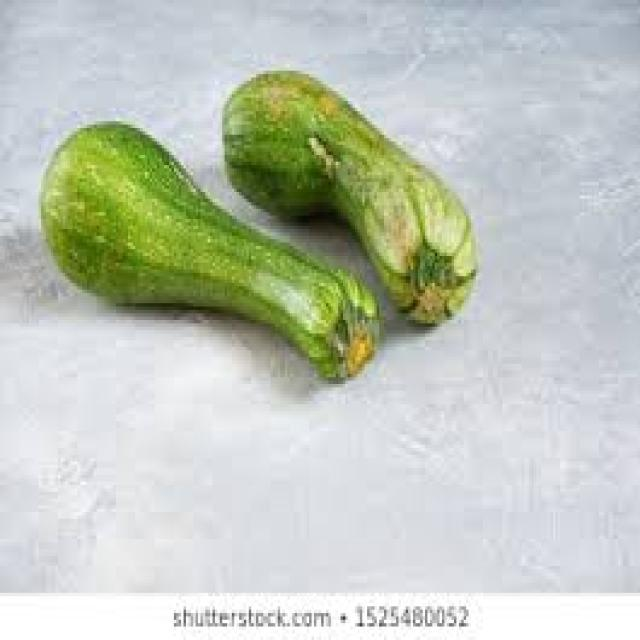biodegradable: (36, 118, 377, 377), (220, 64, 473, 327)
